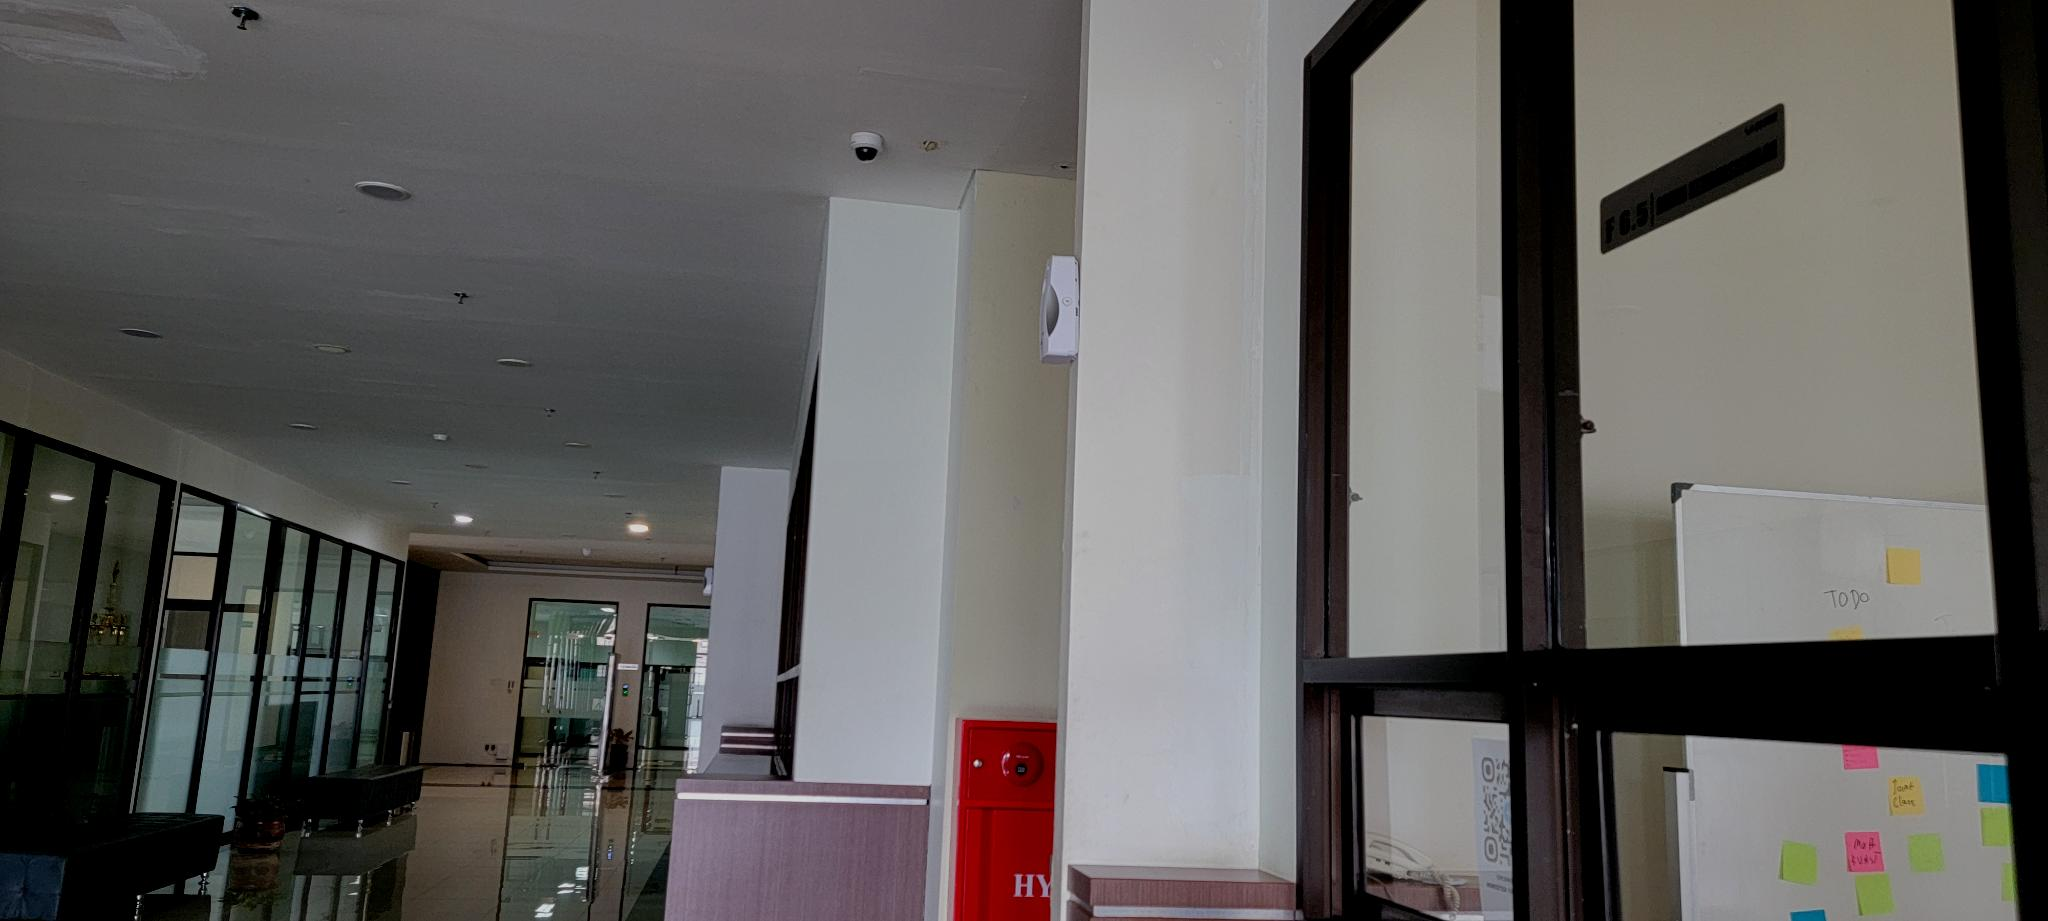plate: (1600, 102, 1785, 255)
